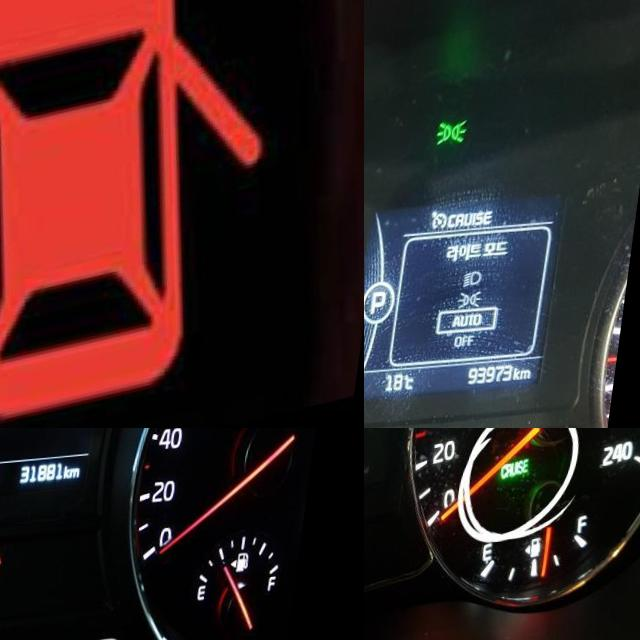SideLamp: (439, 125, 472, 155)
